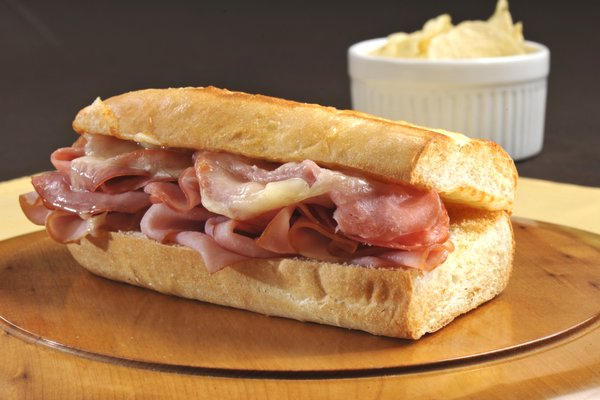soup: (22, 83, 521, 339)
sushi: (348, 0, 551, 162)
